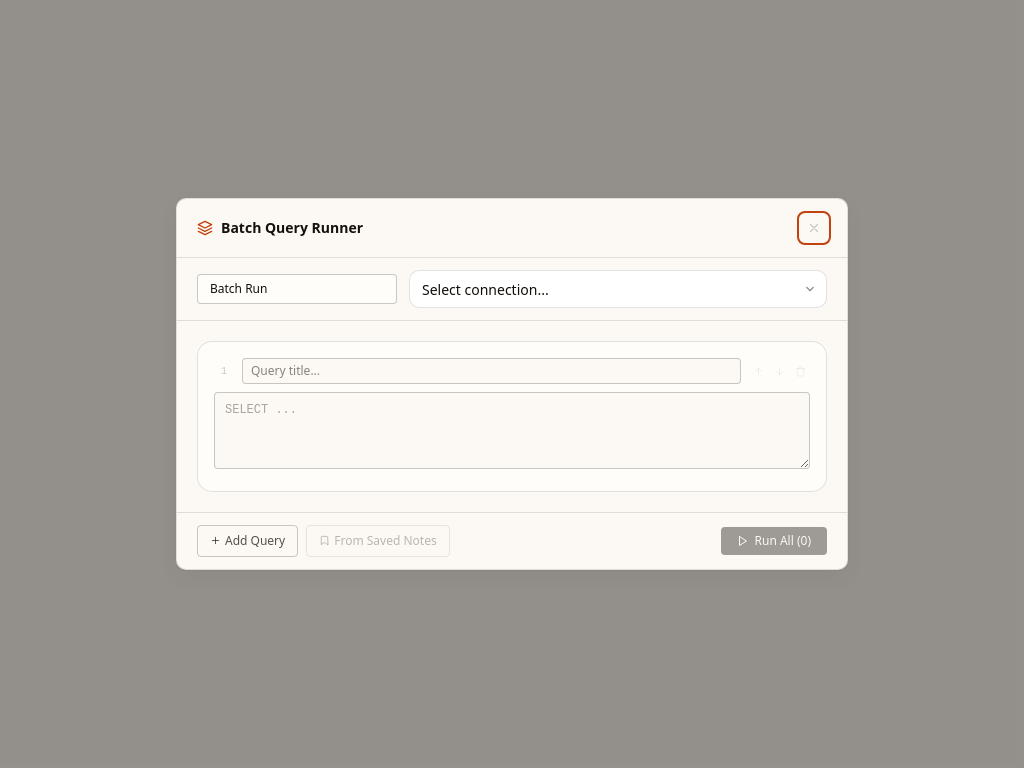
Test: BatchRunner › Add Query adds another query row
Click the button "Add Query". click: (248, 541)
box: 197,525 -> 298,557
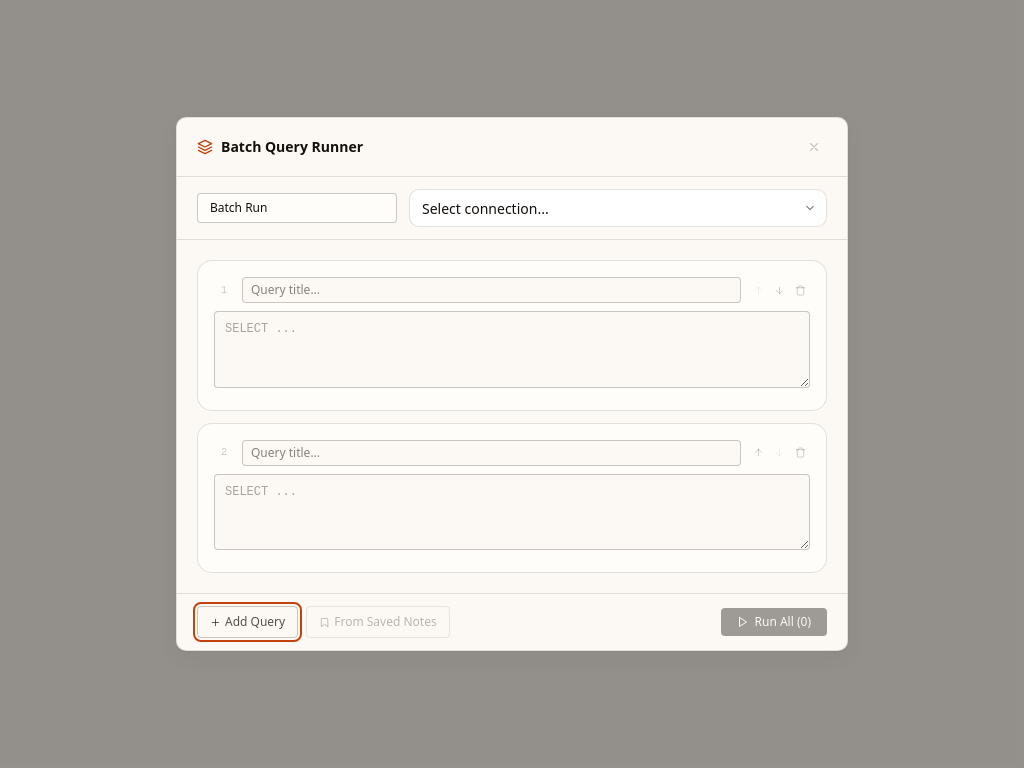
Check: the number of text boxes with placeholder "SELECT ..." is 2, box 214,311 -> 810,388; 214,474 -> 810,550
